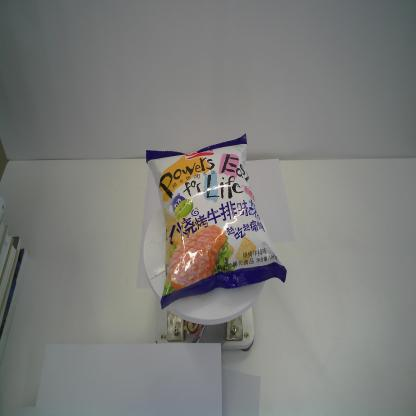Puffed Food: (144, 133, 288, 311)
